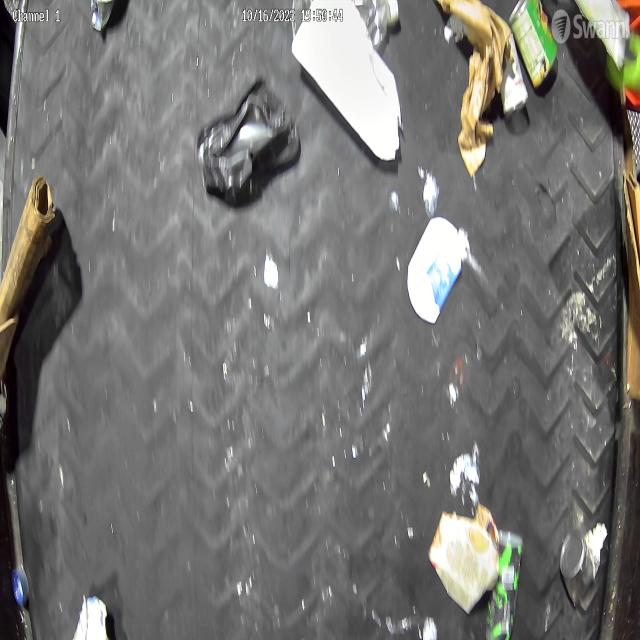can: (484, 523, 527, 640), (510, 0, 562, 92), (555, 520, 597, 624)
